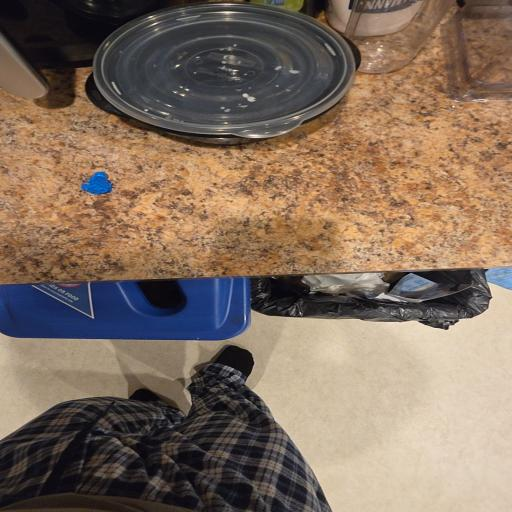Blue: (82, 172, 112, 194)
